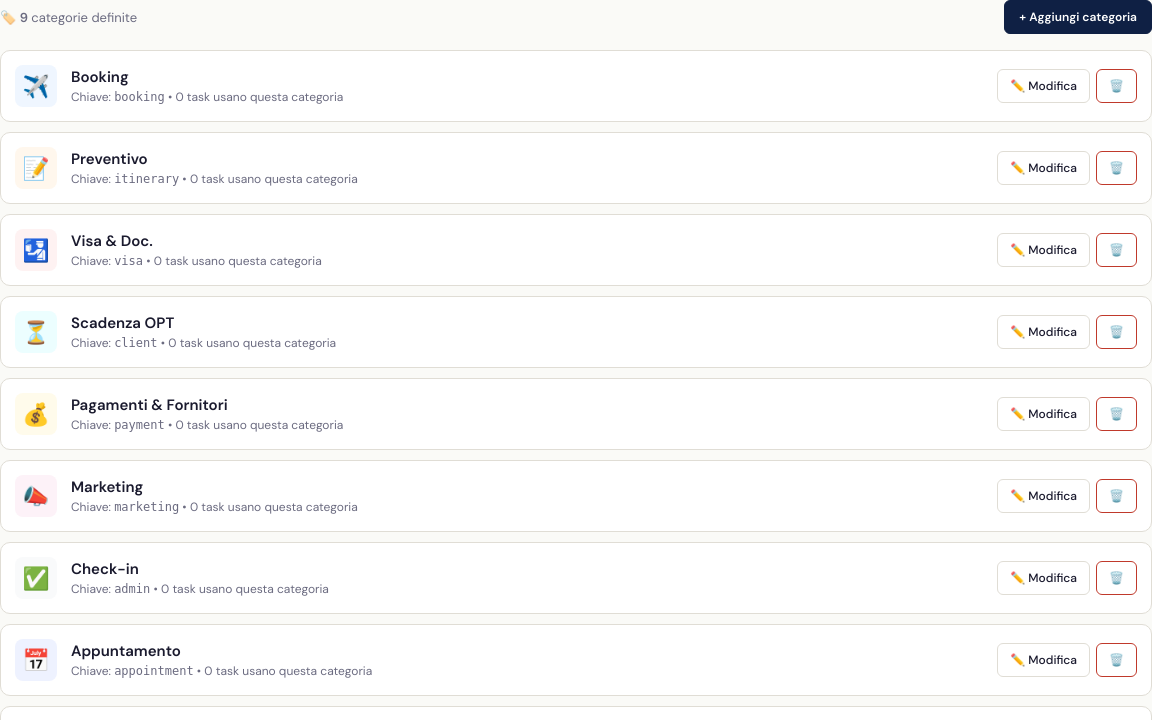
Test: A-4 · AdminCategoriesTab — l'editor in linea non si svuota sul rifiuto › scrittura rifiutata: l'editor resta aperto con l'etichetta modificata
Click the 1st button "✏️ Modifica". click: (1044, 86)
box: top-left (997, 69), bottom-right (1090, 103)
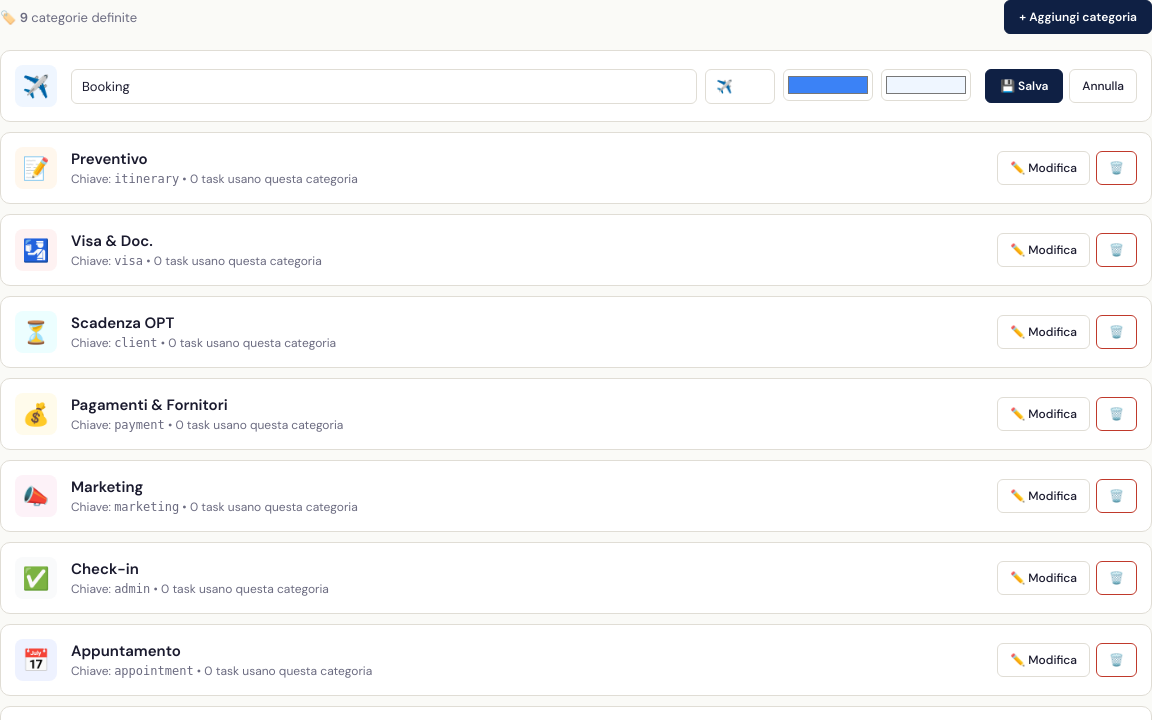
Replace the text in the 1st field with placeholder "Etichetta" with "Prenotazioni voli". click: (384, 86)
box: top-left (71, 68), bottom-right (697, 104)
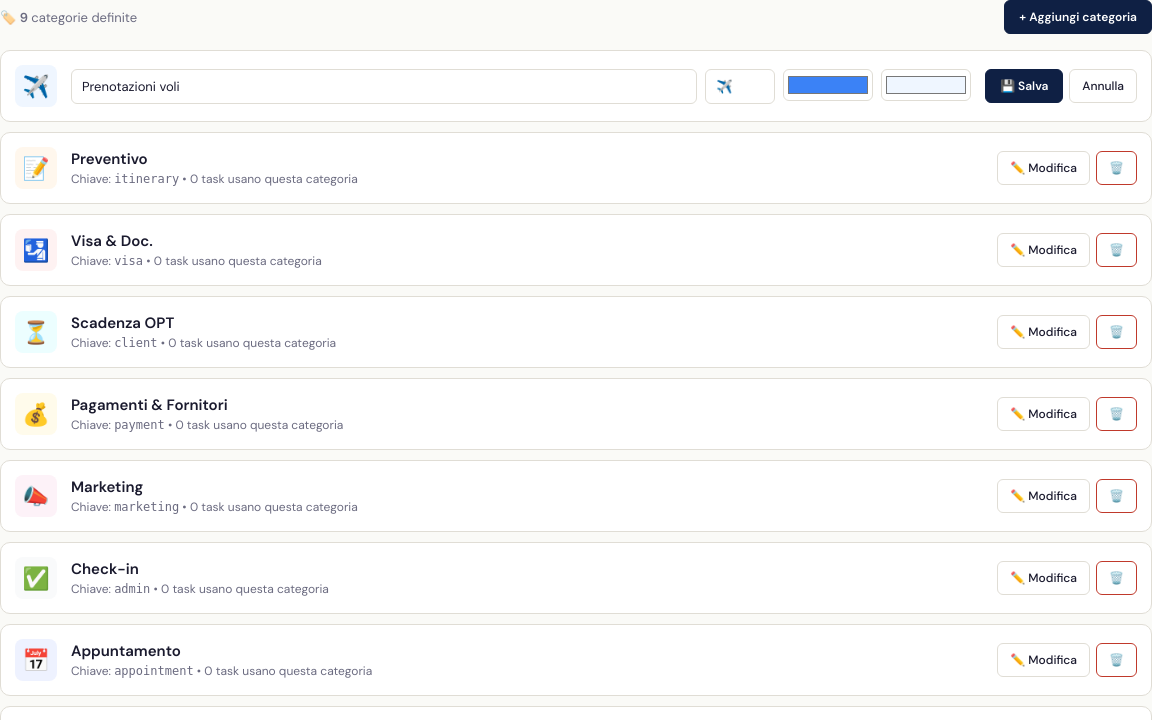
Click the button "💾 Salva". click: (1024, 86)
box: top-left (985, 69), bottom-right (1063, 103)
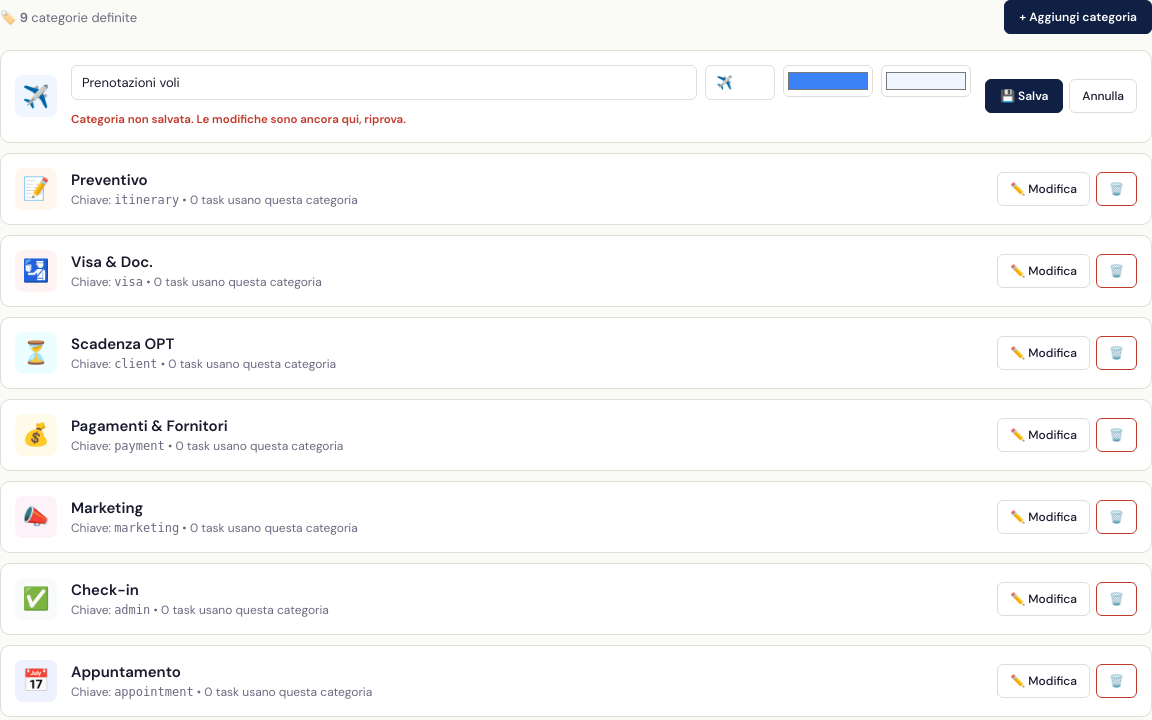
Expected: the text "Categoria non salvata. Le modifiche sono ancora qui, riprova." is shown, top-left (71, 112), bottom-right (406, 127)
